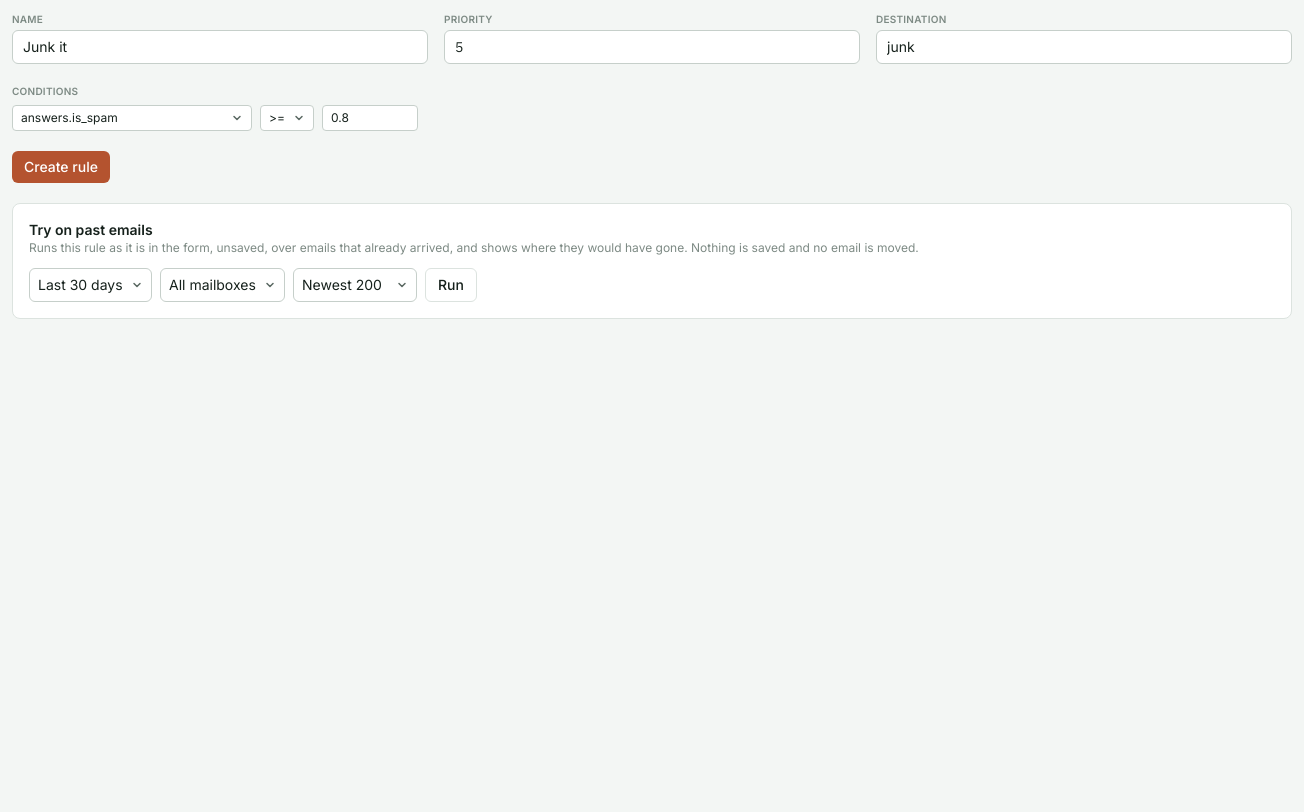
RuleForm — impact preview › editing the form discards the preview
This screenshot has width=1304, height=812.
Click the button "Create rule": (61, 167) [12, 151, 110, 183]
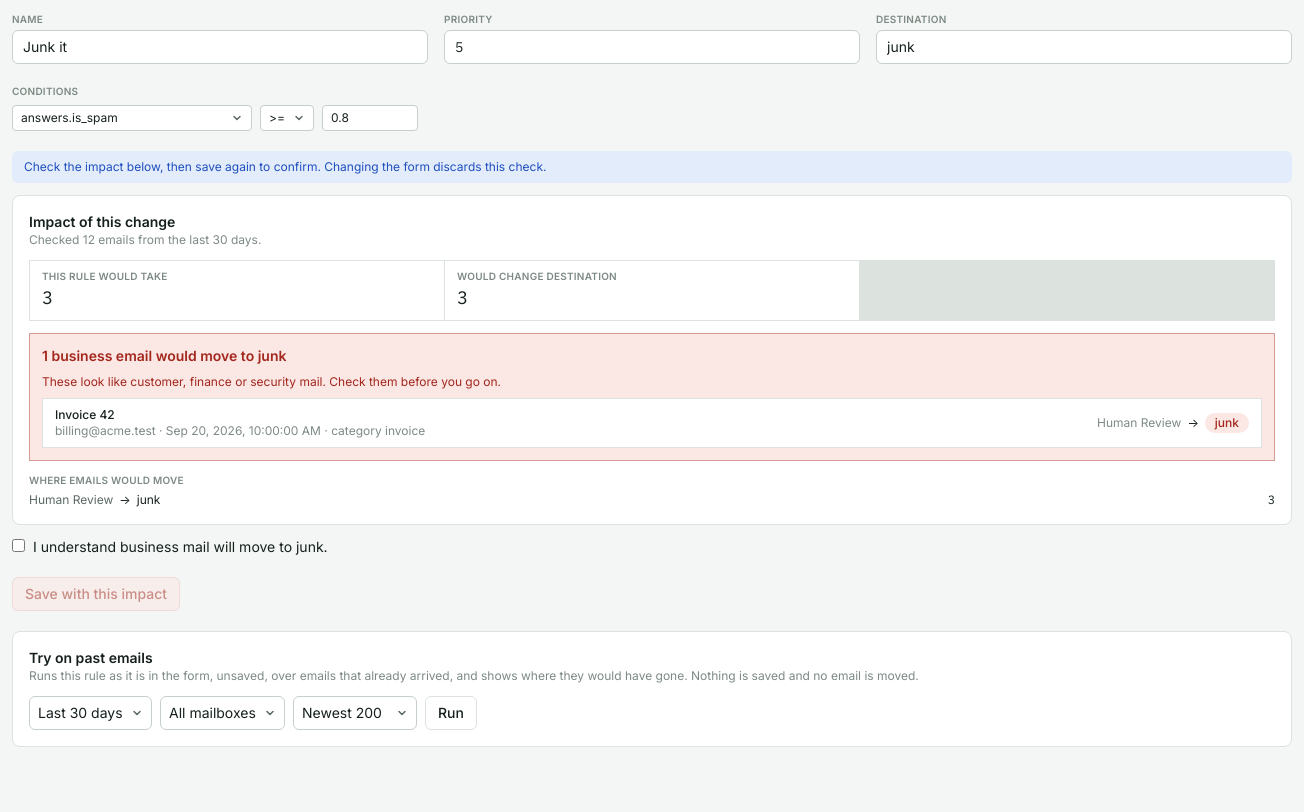
Now the heading "Impact of this change" is shown, box [29, 213, 175, 230]
Replace the text in the field showing "Junk it" with "Junk it 2": (220, 47) [12, 30, 428, 64]
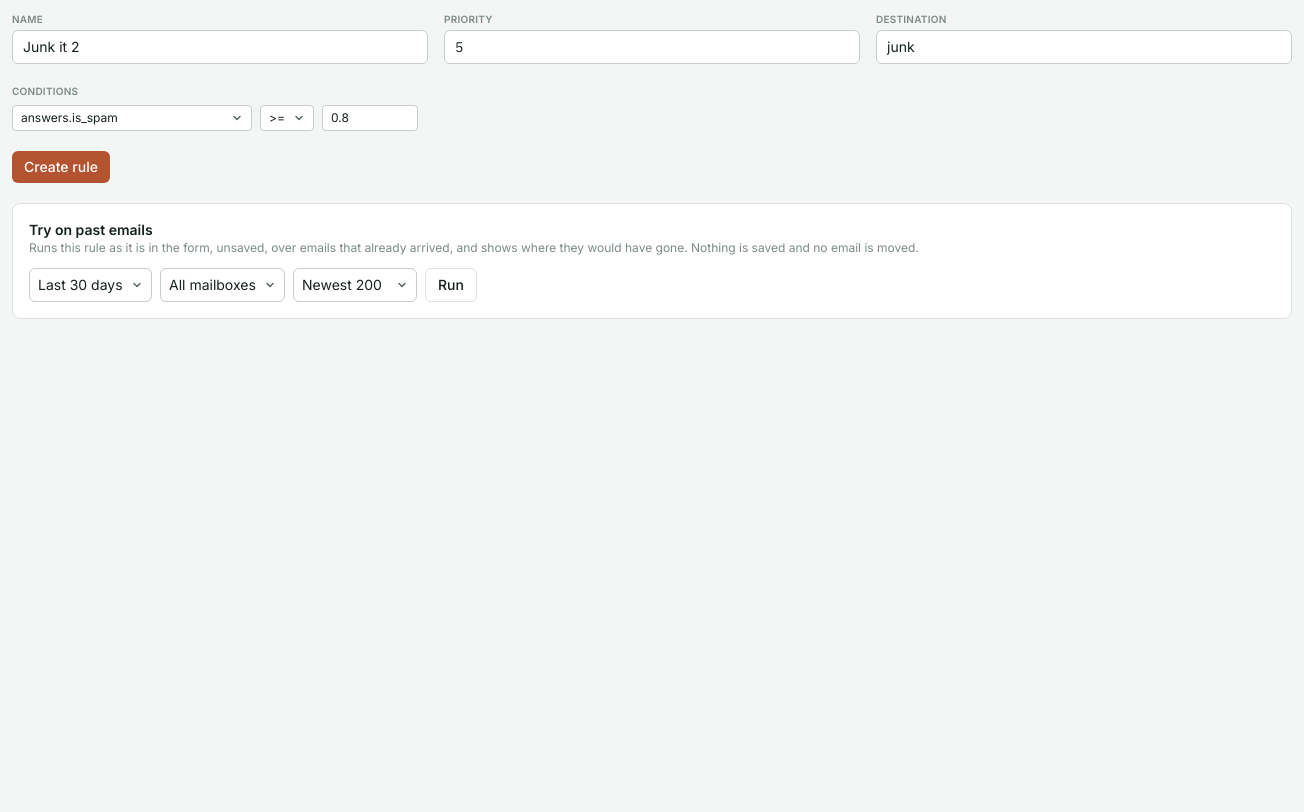
Now the heading "Impact of this change" is gone
Now the button "Create rule" is enabled, box [12, 151, 110, 183]
